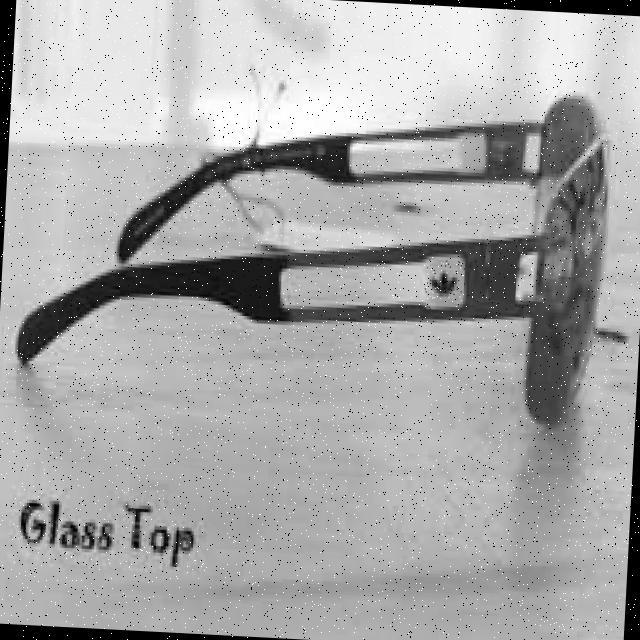Adidas: (424, 260, 466, 312)
